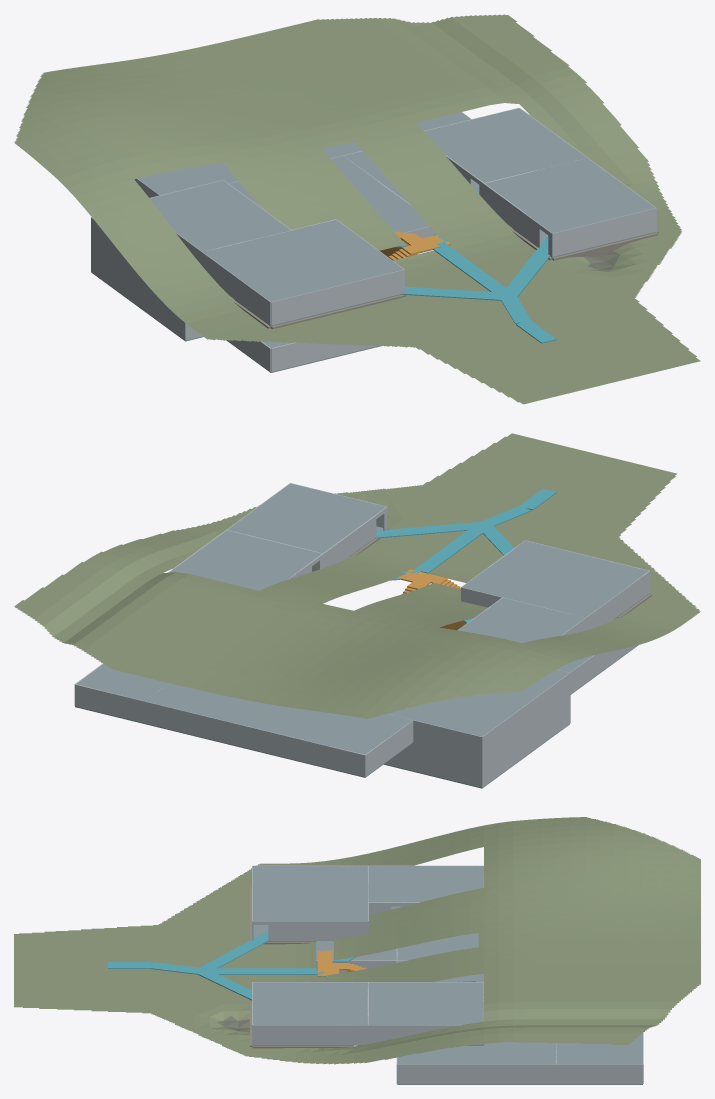
The model's file is connected-stairs.glb.
The picture shows the model from 3 angles, top to bottom: view 1: azimuth 30°, elevation 25°; view 2: azimuth 150°, elevation 25°; view 3: azimuth 270°, elevation 25°; orthographic projection. The views are drawn at different scales.
Visible parts, largest first — view 1: Saved editor macroterrain WLD-05, Ceiling cap shack, Ceiling cap assay, Ceiling cap wash, Ceiling cap stores, Wall shack S, Wall lower W, Wall assay S, Ceiling cap cross, Wall vent S, Wall shack W, Ceiling cap haul.004 (+8 smaller); view 2: Saved editor macroterrain WLD-05, Ceiling cap shack, Ceiling cap cross, Ceiling cap assay, Ceiling cap wash, Wall cross N, Ceiling cap ore-west, Ceiling cap stores, Wall lower W, Wall lower N, Wall ore-west W, Ceiling cap lift (+8 smaller); view 3: Saved editor macroterrain WLD-05, Ceiling cap shack, Ceiling cap assay, Ceiling cap wash, Ceiling cap stores, Wall ore-east E, Ceiling cap ore-east, Wall assay E, Ceiling cap lift, Wall shack E, Wall lift E, Ceiling cap ore-west (+4 smaller).
Boxes of the visible parts, x1=… form: Saved editor macroterrain WLD-05: x1=14, y1=14, x2=700, y2=404; Ceiling cap shack: x1=203, y1=220, x2=403, y2=301; Ceiling cap assay: x1=485, y1=158, x2=655, y2=233; Ceiling cap wash: x1=424, y1=108, x2=586, y2=182; Ceiling cap stores: x1=150, y1=180, x2=290, y2=251; Wall shack S: x1=271, y1=269, x2=404, y2=325; Wall lower W: x1=91, y1=241, x2=185, y2=340; Wall assay S: x1=552, y1=208, x2=656, y2=256; Ceiling cap cross: x1=137, y1=142, x2=362, y2=195; Wall vent S: x1=271, y1=342, x2=376, y2=371; Wall shack W: x1=202, y1=252, x2=270, y2=325; Ceiling cap haul.004: x1=363, y1=190, x2=429, y2=232; Saved editor macroterrain WLD-05: x1=14, y1=433, x2=700, y2=718; Ceiling cap shack: x1=462, y1=540, x2=648, y2=617; Ceiling cap cross: x1=144, y1=683, x2=412, y2=754; Ceiling cap assay: x1=227, y1=483, x2=386, y2=553; Ceiling cap wash: x1=169, y1=530, x2=321, y2=590; Wall cross N: x1=144, y1=701, x2=365, y2=776; Ceiling cap ore-west: x1=388, y1=669, x2=569, y2=736; Ceiling cap stores: x1=458, y1=598, x2=585, y2=643; Wall lower W: x1=482, y1=694, x2=570, y2=787; Wall lower N: x1=385, y1=742, x2=482, y2=787; Wall ore-west W: x1=482, y1=673, x2=570, y2=758; Ceiling cap lift: x1=76, y1=663, x2=168, y2=700; Saved editor macroterrain WLD-05: x1=14, y1=817, x2=700, y2=1064; Ceiling cap shack: x1=252, y1=866, x2=368, y2=920; Ceiling cap assay: x1=252, y1=982, x2=368, y2=1024; Ceiling cap wash: x1=368, y1=982, x2=483, y2=1024; Ceiling cap stores: x1=368, y1=866, x2=483, y2=902; Wall ore-east E: x1=397, y1=1064, x2=556, y2=1084; Ceiling cap ore-east: x1=397, y1=1042, x2=556, y2=1064; Wall assay E: x1=252, y1=1024, x2=368, y2=1044; Ceiling cap lift: x1=556, y1=1033, x2=642, y2=1064; Wall shack E: x1=268, y1=921, x2=368, y2=940; Wall lift E: x1=556, y1=1064, x2=642, y2=1084; Ceiling cap ore-west: x1=397, y1=933, x2=478, y2=959.
Size of the model in its own units: 70 by 17.77 by 95.
